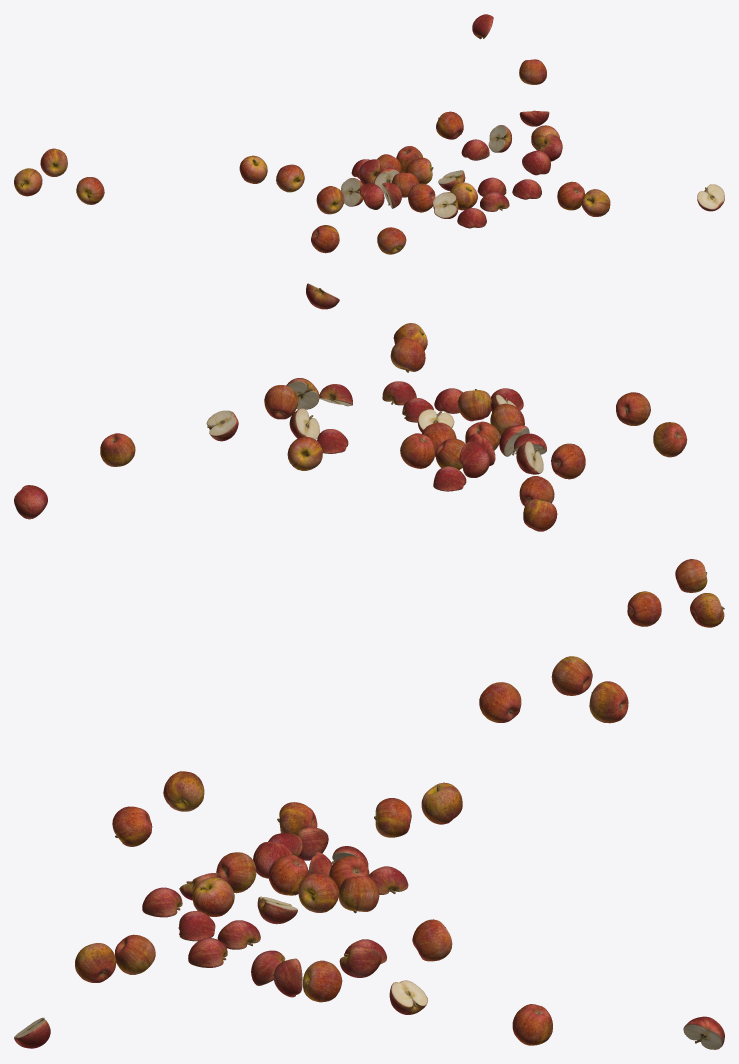
File: photoscanned_apples.glb
3 views of the same model, one above another, from view 1: azimuth 30°, elevation 25°; view 2: azimuth 150°, elevation 25°; view 3: azimuth 270°, elevation 25° (orthographic). The views are drawn at different scales.
Visible parts, largest first — view 1: object 27, object 9, object 37, object 19, object 29, object 7, object 33, object 31, object 35, object 13, object 21, object 17 (+18 smaller); view 2: object 31, object 1, object 21, object 17, object 25, object 27, object 23, object 35, object 13, object 9, object 19, object 11 (+15 smaller); view 3: object 33, object 25, object 19, object 27, object 21, object 37, object 11, object 23, object 5, object 17, object 13, object 9 (+21 smaller).
Boxes of the visible parts, x1,y1,x2,y2 form: object 27: (311, 225, 339, 253); object 9: (14, 168, 42, 196); object 37: (581, 189, 610, 216); object 19: (239, 155, 267, 183); object 29: (408, 183, 435, 212); object 7: (276, 164, 304, 192); object 33: (76, 177, 104, 204); object 31: (316, 186, 344, 214); object 35: (377, 227, 406, 254); object 13: (557, 181, 584, 210); object 21: (40, 148, 67, 176); object 17: (436, 111, 463, 139); object 31: (551, 443, 585, 479); object 1: (400, 433, 435, 468); object 21: (627, 591, 661, 626); object 17: (287, 437, 322, 470); object 25: (100, 433, 135, 466); object 27: (653, 422, 687, 457); object 23: (264, 385, 298, 419); object 35: (616, 392, 650, 425); object 13: (390, 338, 425, 372); object 9: (690, 593, 724, 627); object 19: (523, 499, 557, 531); object 11: (457, 389, 491, 421); object 33: (479, 682, 521, 722); object 25: (512, 1004, 552, 1045); object 19: (421, 782, 462, 824); object 27: (163, 771, 204, 811); object 21: (589, 681, 628, 723); object 37: (75, 943, 116, 982); object 11: (192, 877, 234, 916); object 23: (303, 960, 342, 1002); object 5: (298, 872, 338, 912); object 17: (412, 919, 452, 961); object 13: (115, 934, 155, 974); object 9: (551, 656, 592, 695).
Size of the model in its own units: 264 by 12.92 by 214.
2 materials, 2 textured.
